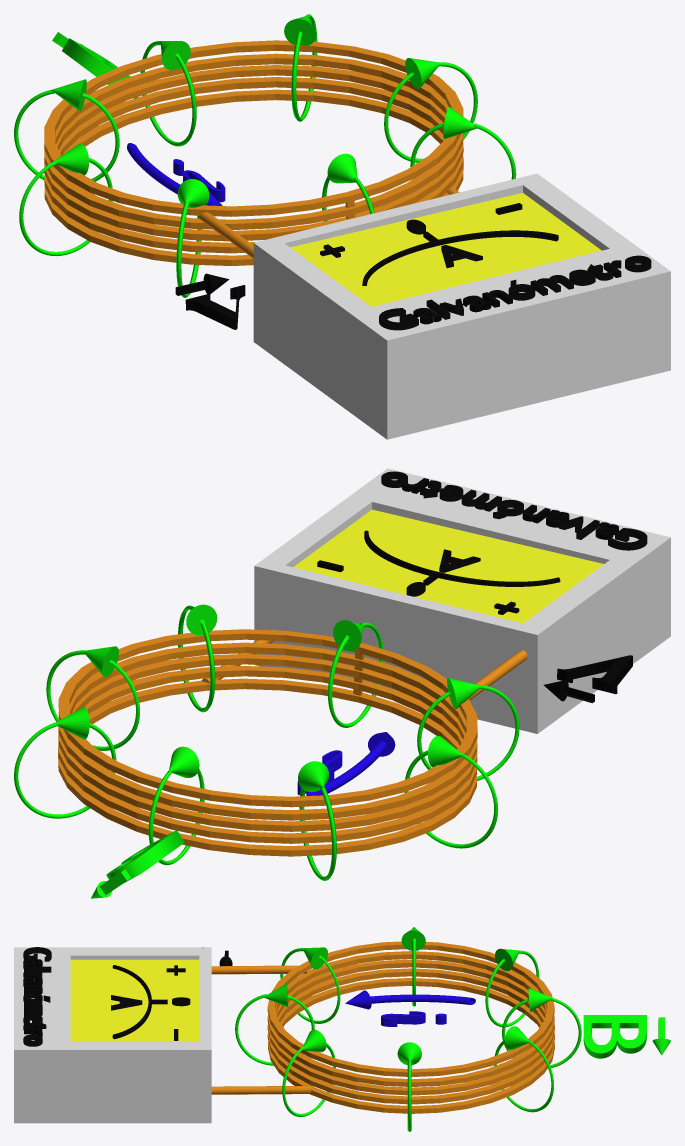
Rendered from multimetro3.dae.
The picture shows the model from 3 angles, top to bottom: view 1: azimuth 30°, elevation 25°; view 2: azimuth 150°, elevation 25°; view 3: azimuth 270°, elevation 25°; orthographic projection. The views are drawn at different scales.
Visible parts, largest first — view 1: Cono.003, Cono.010, Cube.002, Cube.001, Cono.001, Texto.005, NurbsCurve, Texto.011; view 2: Cono.003, Cono.010, Cube.001, Cube.002, Cono.001, Texto.005, NurbsCurve; view 3: Cono.003, Cono.010, Cube.001, Cube.002, Texto.005, NurbsCurve, Texto.011.
Boxes of the visible parts, <box> form: Cono.003: <box>253,173,670,439</box>; Cono.010: <box>44,40,463,265</box>; Cube.002: <box>19,41,477,256</box>; Cube.001: <box>14,14,516,297</box>; Cono.001: <box>175,273,245,329</box>; Texto.005: <box>52,32,137,98</box>; NurbsCurve: <box>127,143,222,205</box>; Texto.011: <box>173,159,225,202</box>; Cono.003: <box>254,468,670,733</box>; Cono.010: <box>58,629,527,856</box>; Cube.001: <box>14,604,519,880</box>; Cube.002: <box>46,620,498,865</box>; Cono.001: <box>543,655,632,703</box>; Texto.005: <box>91,830,184,898</box>; NurbsCurve: <box>306,732,395,795</box>; Cono.003: <box>14,947,211,1123</box>; Cono.010: <box>211,941,554,1113</box>; Cube.001: <box>280,947,553,1116</box>; Cube.002: <box>235,927,581,1131</box>; Texto.005: <box>583,1015,670,1058</box>; NurbsCurve: <box>345,990,475,1009</box>; Texto.011: <box>381,1011,446,1026</box>.
Size of the model in its own units: 1.37 by 2.31 by 0.337.
